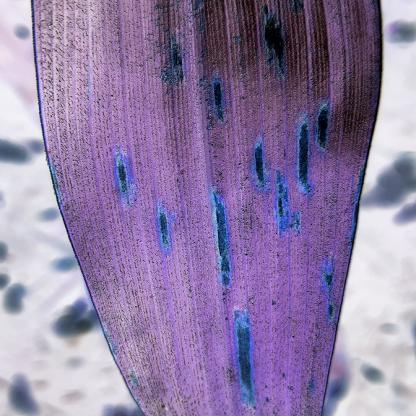corn leaf blight: (28, 3, 388, 416)
